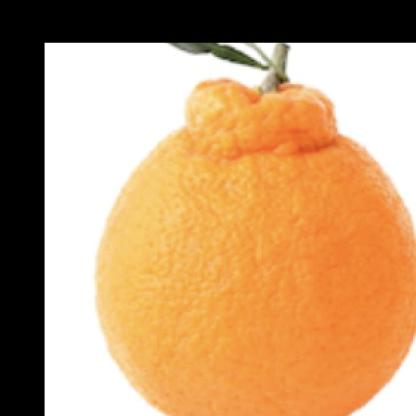fresh: (94, 76, 416, 416)
